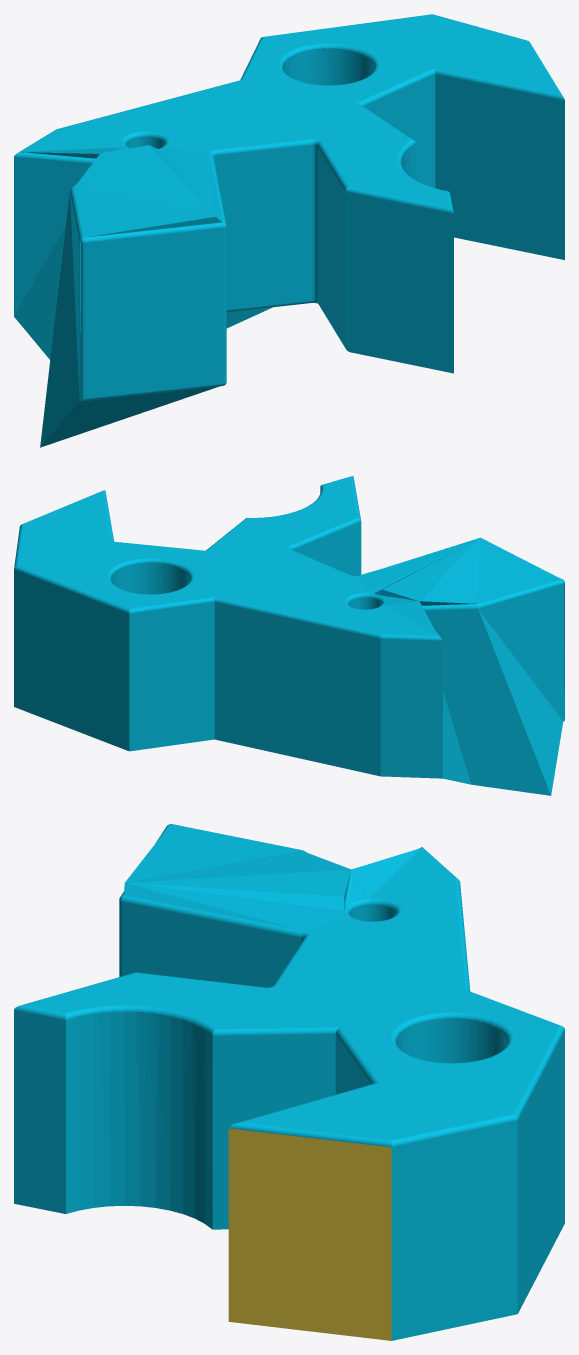
3 renders of one model, top to bottom at view 1: azimuth 30°, elevation 25°; view 2: azimuth 150°, elevation 25°; view 3: azimuth 270°, elevation 25°, orthographic. The views are drawn at different scales.
Parts seen in each view (by area): view 1: Part2; view 2: Part2; view 3: Part2.
Part boxes in pixels (x1=…): Part2: x1=14, y1=14, x2=564, y2=447; Part2: x1=14, y1=476, x2=564, y2=795; Part2: x1=14, y1=824, x2=564, y2=1340.
Bounding box in the file's own units: 107 × 43.37 × 76.31.
